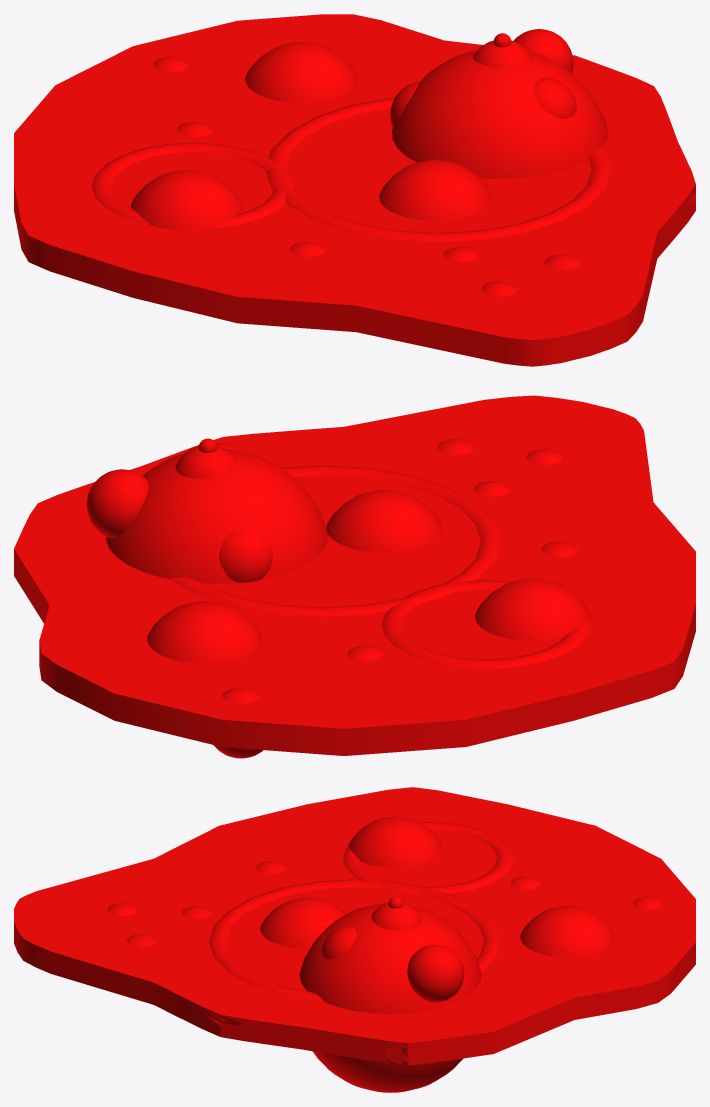
File: Lava.fbx
The picture shows the model from 3 angles, top to bottom: view 1: azimuth 30°, elevation 25°; view 2: azimuth 150°, elevation 25°; view 3: azimuth 270°, elevation 25°; orthographic projection. The views are drawn at different scales.
Parts seen in each view (by area): view 1: Cylinder001, Sphere008, Torus001, Sphere002, Sphere004, Sphere003, Torus002, Sphere011, Sphere010, Sphere012, Sphere009; view 2: Cylinder001, Sphere008, Torus001, Sphere002, Sphere004, Sphere003, Torus002, Sphere011, Sphere009, Sphere012, Sphere007; view 3: Cylinder001, Sphere008, Torus001, Sphere002, Sphere003, Sphere004, Torus002, Sphere011, Sphere012, Sphere010.
Part boxes in pixels (<box>): Cylinder001: <box>14,14,695,366</box>; Sphere008: <box>392,50,607,178</box>; Torus001: <box>266,97,611,242</box>; Sphere002: <box>245,42,357,102</box>; Sphere004: <box>379,160,491,220</box>; Sphere003: <box>131,170,243,230</box>; Torus002: <box>92,142,294,227</box>; Sphere011: <box>513,29,573,73</box>; Sphere010: <box>534,77,576,118</box>; Sphere012: <box>473,40,532,67</box>; Sphere009: <box>390,81,419,127</box>; Cylinder001: <box>14,395,695,755</box>; Sphere008: <box>106,448,327,583</box>; Torus001: <box>169,465,501,616</box>; Sphere002: <box>147,601,262,663</box>; Sphere004: <box>326,490,441,552</box>; Sphere003: <box>475,578,590,640</box>; Torus002: <box>381,580,590,668</box>; Sphere011: <box>86,469,148,538</box>; Sphere009: <box>218,528,272,582</box>; Sphere012: <box>175,446,236,478</box>; Sphere007: <box>213,687,263,758</box>; Cylinder001: <box>14,787,695,1065</box>; Sphere008: <box>299,903,481,1092</box>; Torus001: <box>209,879,500,1001</box>; Sphere002: <box>520,906,614,957</box>; Sphere003: <box>348,816,442,867</box>; Sphere004: <box>260,897,345,948</box>; Torus002: <box>343,822,513,894</box>; Sphere011: <box>407,944,464,1002</box>; Sphere012: <box>371,903,421,930</box>; Sphere010: <box>322,925,356,959</box>.
Size of the model in its own units: 30.96 by 10.66 by 34.87.
